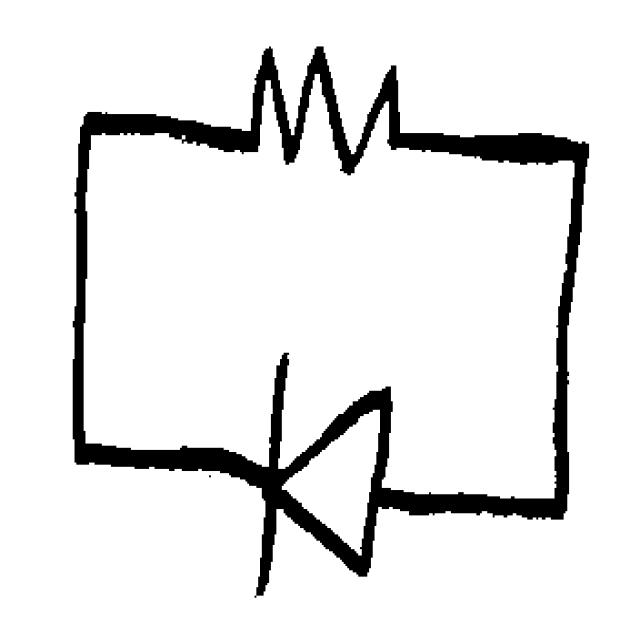diode: (244, 338, 408, 612)
resistor: (234, 30, 415, 194)
